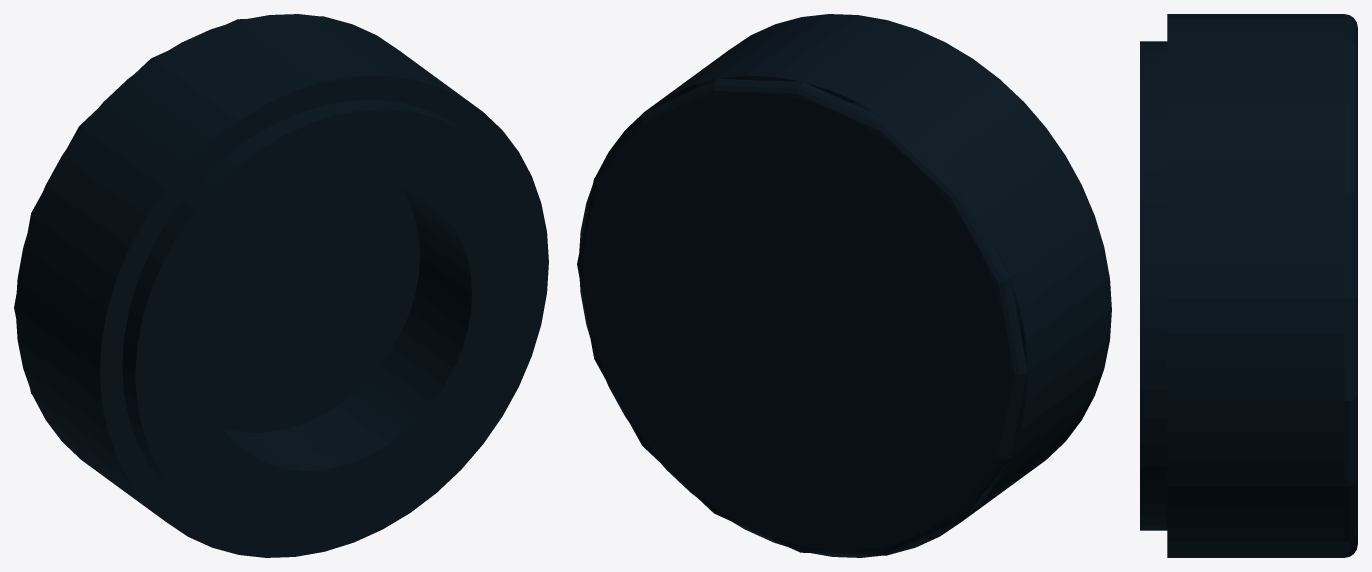
3 renders of one model, left to right at view 1: azimuth 30°, elevation 25°; view 2: azimuth 150°, elevation 25°; view 3: azimuth 270°, elevation 25°, orthographic. The views are drawn at different scales.
Parts seen in each view (by area): view 1: _4_4ring3, _4_4disc, _1_4cyli_8, _4_4ring8, _1_4cyli_3, _1_4cyli_11, _1_4ring9_1, _1_4cyli_9, _1_4ring9_2, _1_4ring9, _1_4cyli_4, _1_4cyli (+4 smaller); view 2: _41588_1___98138pz0, _1_4cyli_8, _4_4rin18, t02o0526, _1_4cyli_11, _1_4cyli_9, t02o0526_1; view 3: _1_4cyli_9, _1_4cyli_10, _1_4cyli_5, t02o0526, _1_4cyli_8, _1_4cyli_6, t02o0526_1, _1_4cyli_4.
Boxes of the visible parts, x1=… form: _4_4ring3: x1=157, y1=133, x2=516, y2=519; _4_4disc: x1=202, y1=181, x2=420, y2=432; _1_4cyli_8: x1=15, y1=20, x2=323, y2=371; _4_4ring8: x1=135, y1=109, x2=539, y2=543; _1_4cyli_3: x1=286, y1=256, x2=471, y2=467; _1_4cyli_11: x1=15, y1=310, x2=164, y2=520; _1_4ring9_1: x1=100, y1=82, x2=324, y2=371; _1_4cyli_9: x1=240, y1=14, x2=479, y2=109; _1_4ring9_2: x1=100, y1=366, x2=324, y2=557; _1_4ring9: x1=324, y1=75, x2=548, y2=264; _1_4cyli_4: x1=122, y1=105, x2=336, y2=375; _1_4cyli: x1=400, y1=186, x2=471, y2=292; _41588_1___98138pz0: x1=594, y1=107, x2=998, y2=535; _1_4cyli_8: x1=803, y1=20, x2=1111, y2=371; _4_4rin18: x1=583, y1=92, x2=1009, y2=550; t02o0526: x1=577, y1=78, x2=1027, y2=374; _1_4cyli_11: x1=811, y1=310, x2=1111, y2=557; _1_4cyli_9: x1=579, y1=14, x2=886, y2=251; t02o0526_1: x1=577, y1=266, x2=1027, y2=555; _1_4cyli_9: x1=1167, y1=39, x2=1344, y2=400; _1_4cyli_10: x1=1167, y1=401, x2=1344, y2=557; _1_4cyli_5: x1=1140, y1=64, x2=1167, y2=389; t02o0526: x1=1344, y1=14, x2=1357, y2=400; _1_4cyli_8: x1=1167, y1=14, x2=1344, y2=39; _1_4cyli_6: x1=1140, y1=389, x2=1167, y2=530; t02o0526_1: x1=1344, y1=395, x2=1357, y2=557; _1_4cyli_4: x1=1140, y1=41, x2=1167, y2=63.
Size of the model in its own units: 20 by 20 by 8.
